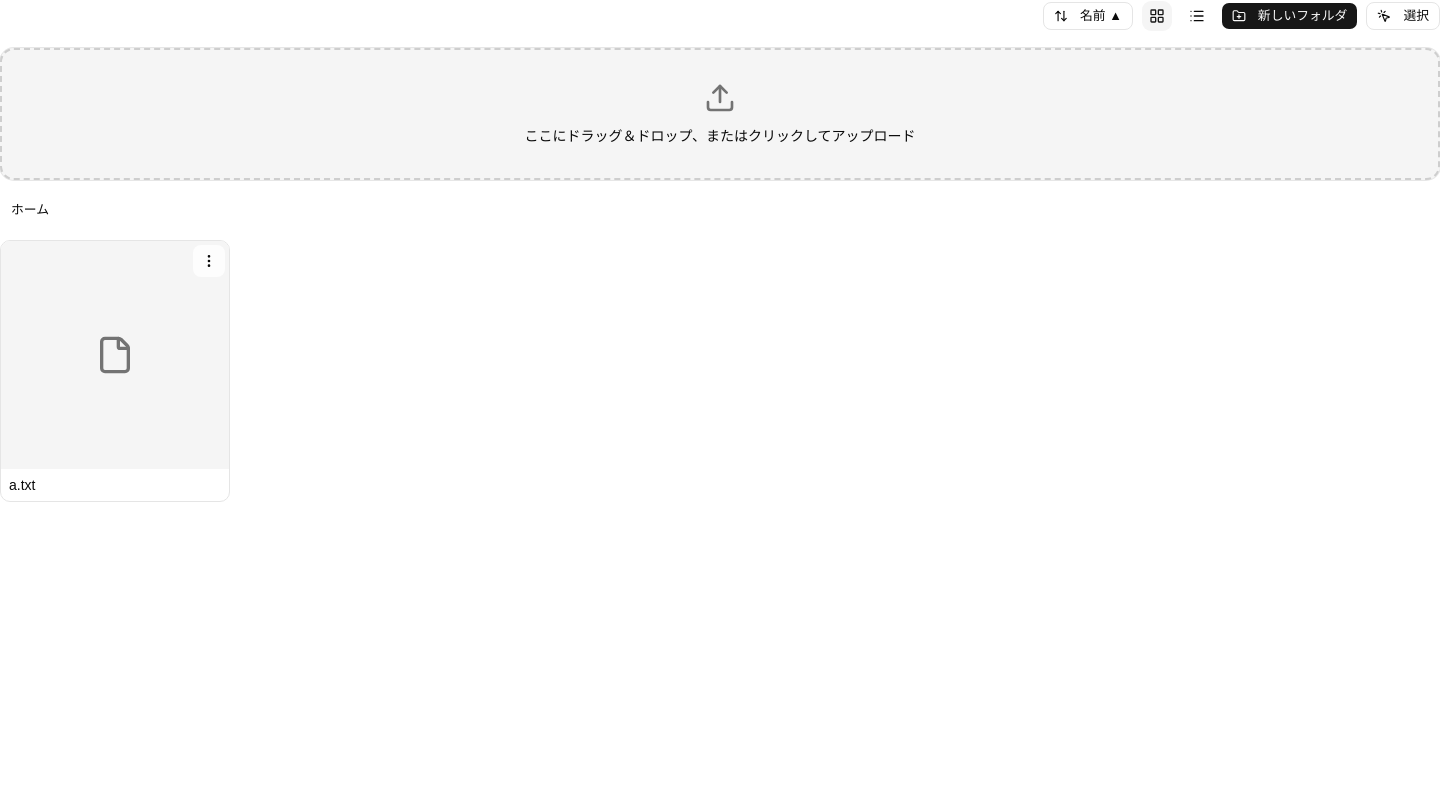
Test: FileBrowser › 複数選択・一括操作 › 削除ボタン→確認ダイアログ→確定で bulkDelete を呼び選択モードを終了する
expect the text "a.txt" is shown: met, box [9, 477, 36, 493]
Click the button "選択" at (1403, 16), box [1366, 2, 1439, 30]
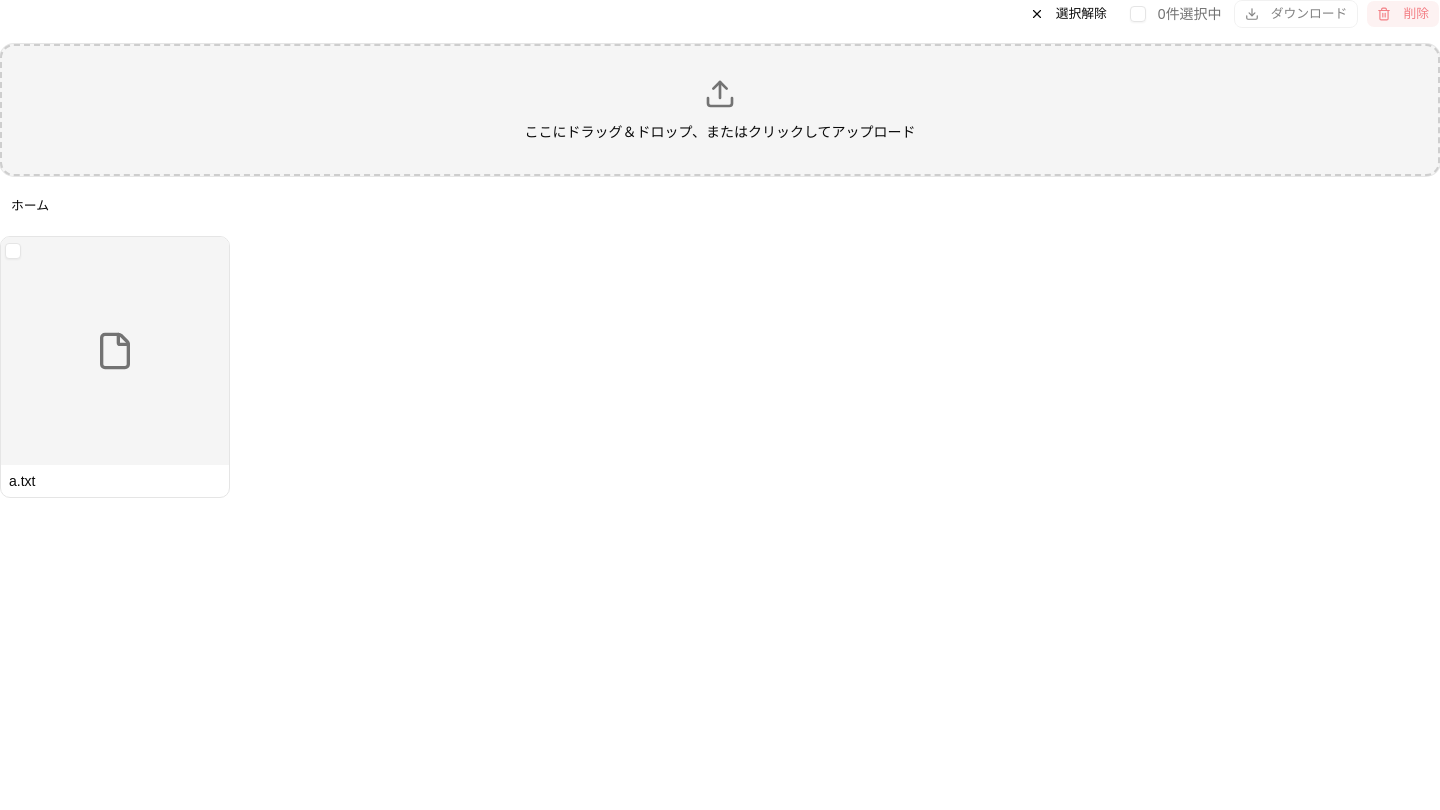
Click the checkbox named "a.txt を選択" at (13, 251), box [5, 243, 21, 259]
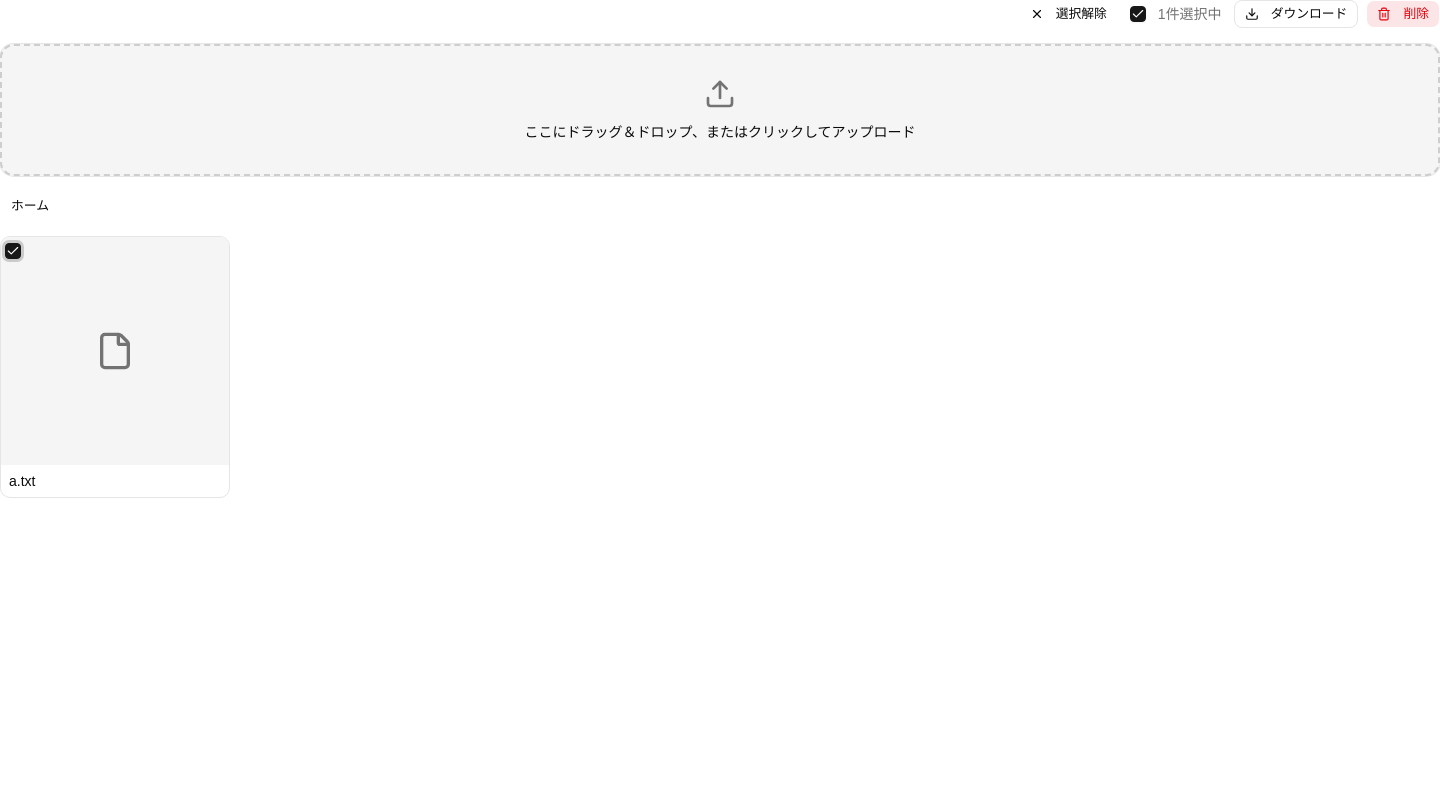
Click the button "削除" at (1403, 14), box [1366, 0, 1439, 28]
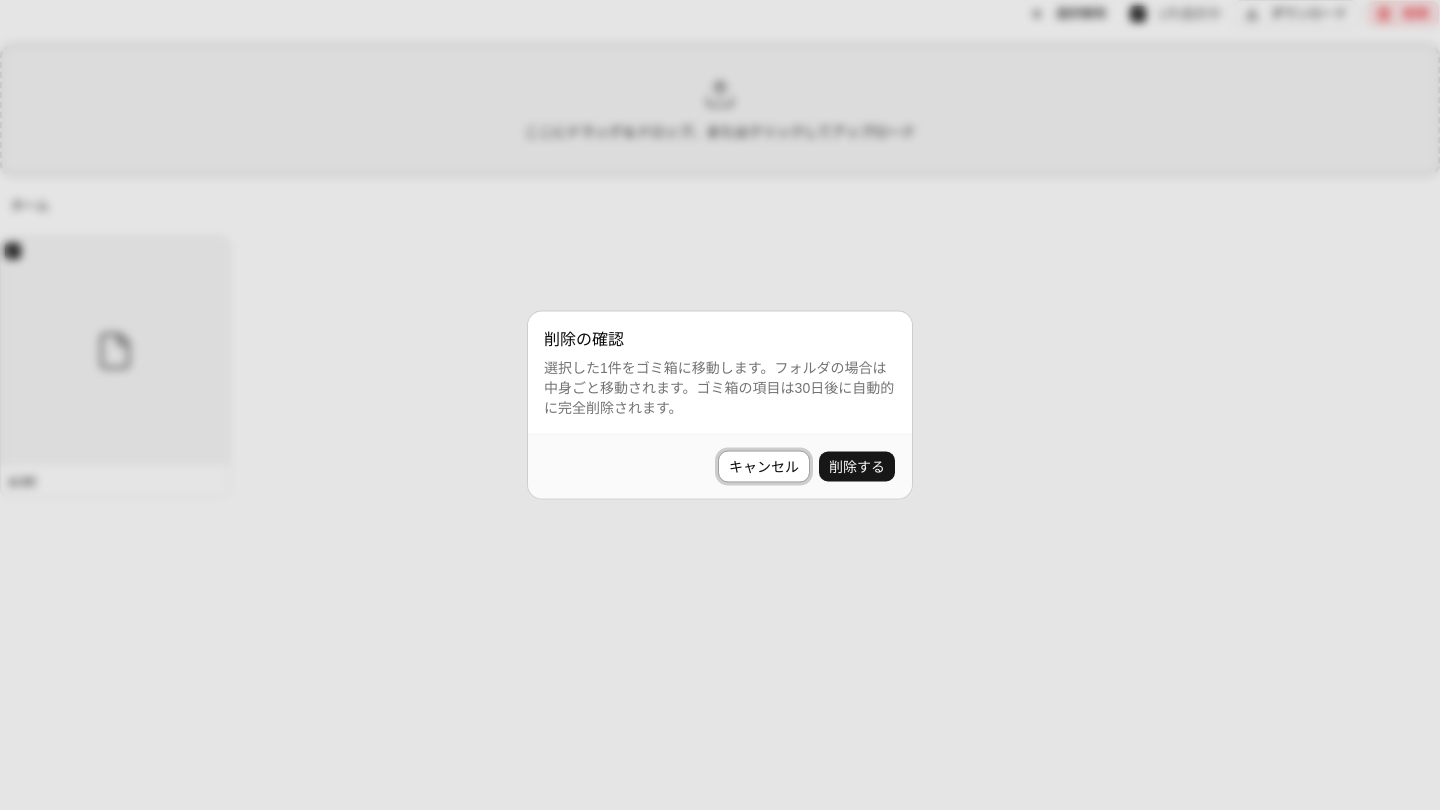
Click the button "削除する" at (857, 466), box [818, 450, 896, 482]
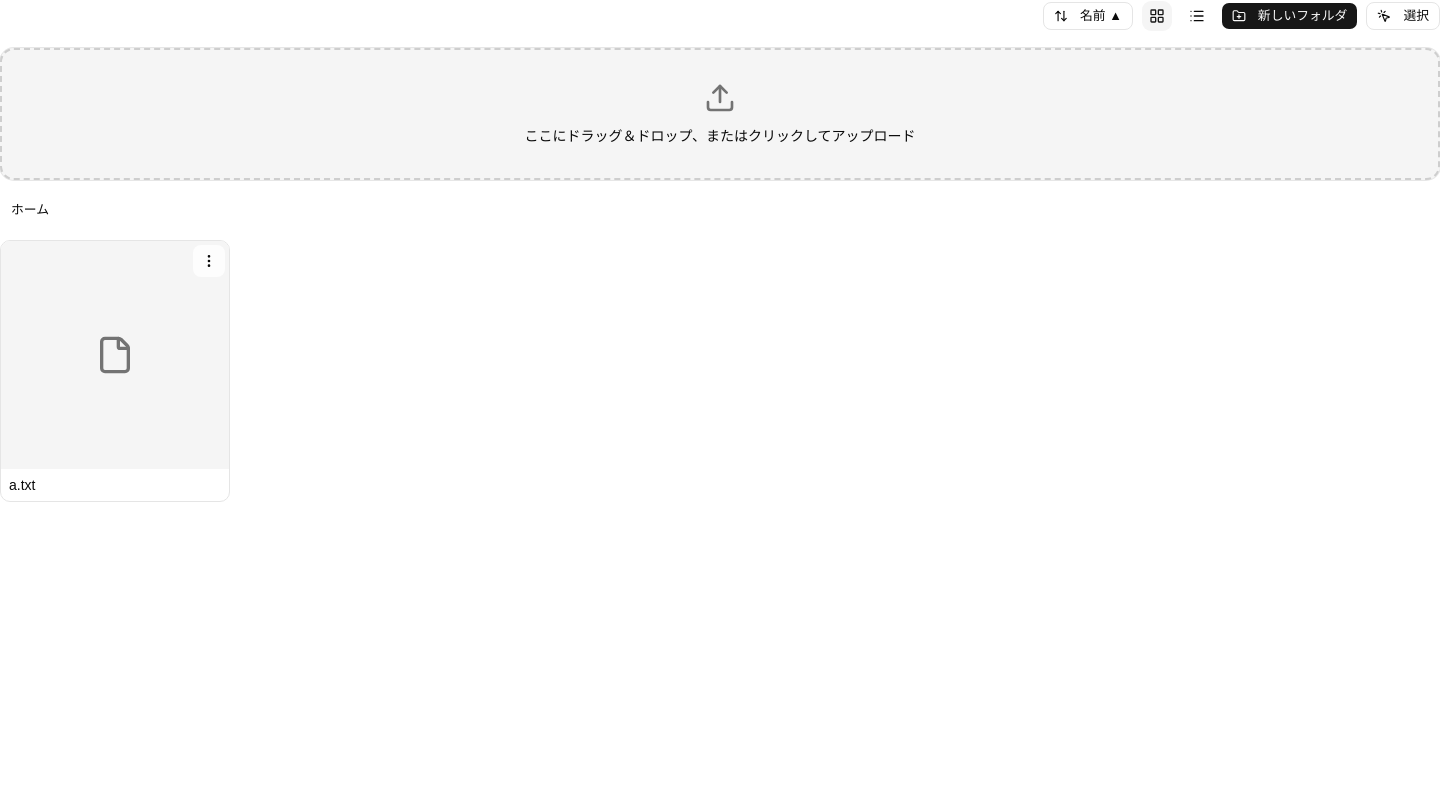
expect the button "選択" is shown: met, box [1366, 2, 1439, 30]
expect the text "件選択中" is gone: met
